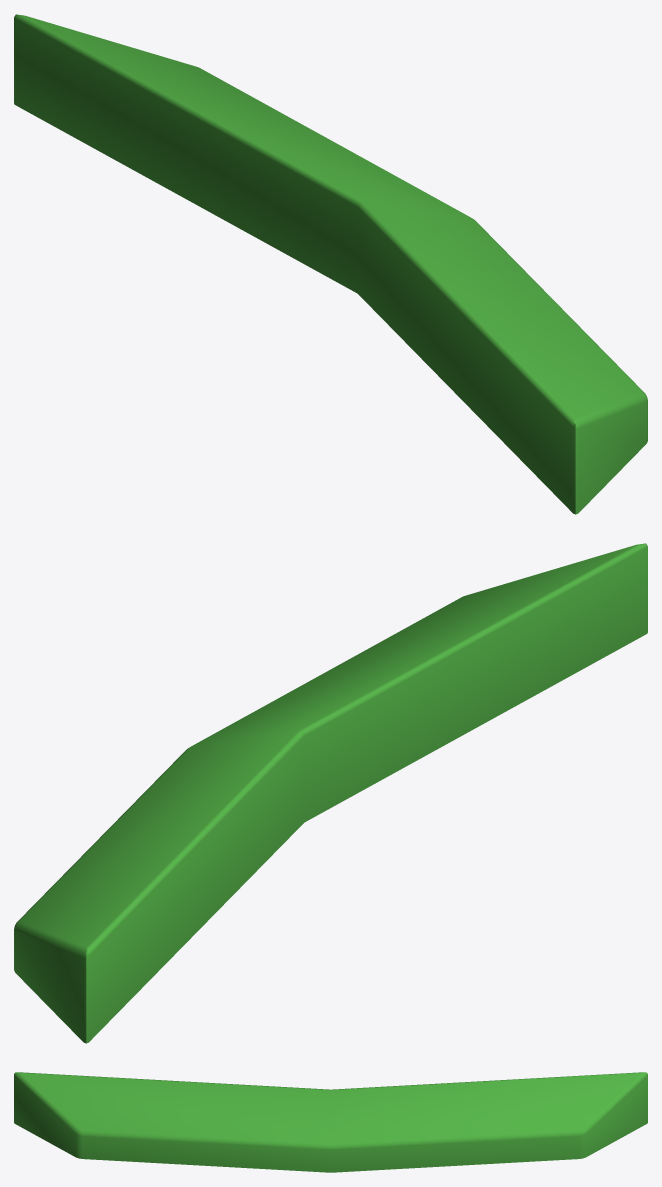
The model's file is block-2.fbx.
3 renders of one model, top to bottom at view 1: azimuth 30°, elevation 25°; view 2: azimuth 150°, elevation 25°; view 3: azimuth 270°, elevation 25°, orthographic. The views are drawn at different scales.
Parts seen in each view (by area): view 1: block_2; view 2: block_2; view 3: block_2.
Part boxes in pixels (<box>): block_2: <box>14,14,647,514</box>; block_2: <box>14,543,647,1043</box>; block_2: <box>14,1072,647,1172</box>.
Bounding box in the file's own units: 0.7723 × 0.3662 × 4.12.
